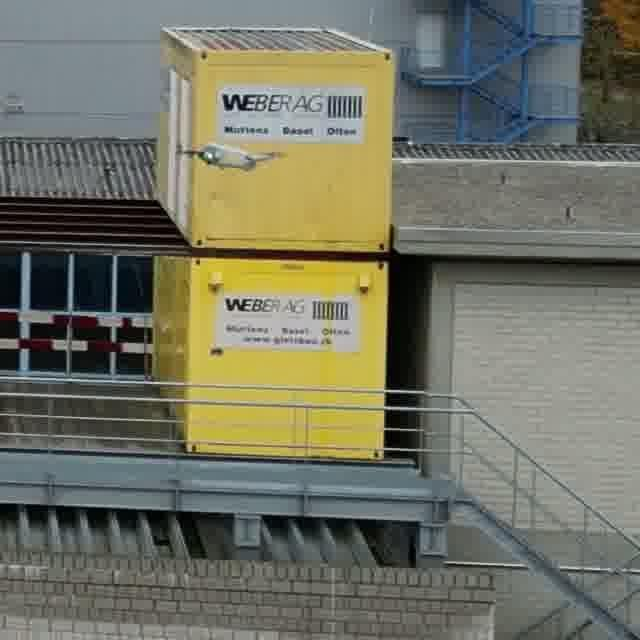Drohne: (180, 143, 284, 170)
